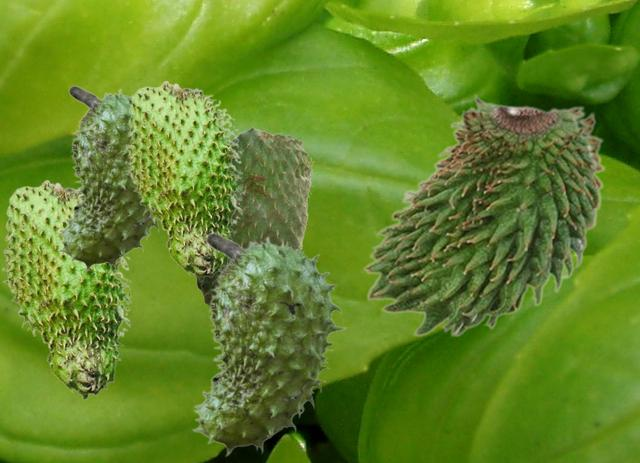guyabano: (362, 93, 605, 336), (191, 232, 346, 456), (1, 179, 132, 399), (124, 80, 244, 281), (195, 126, 313, 306), (56, 85, 159, 272)
